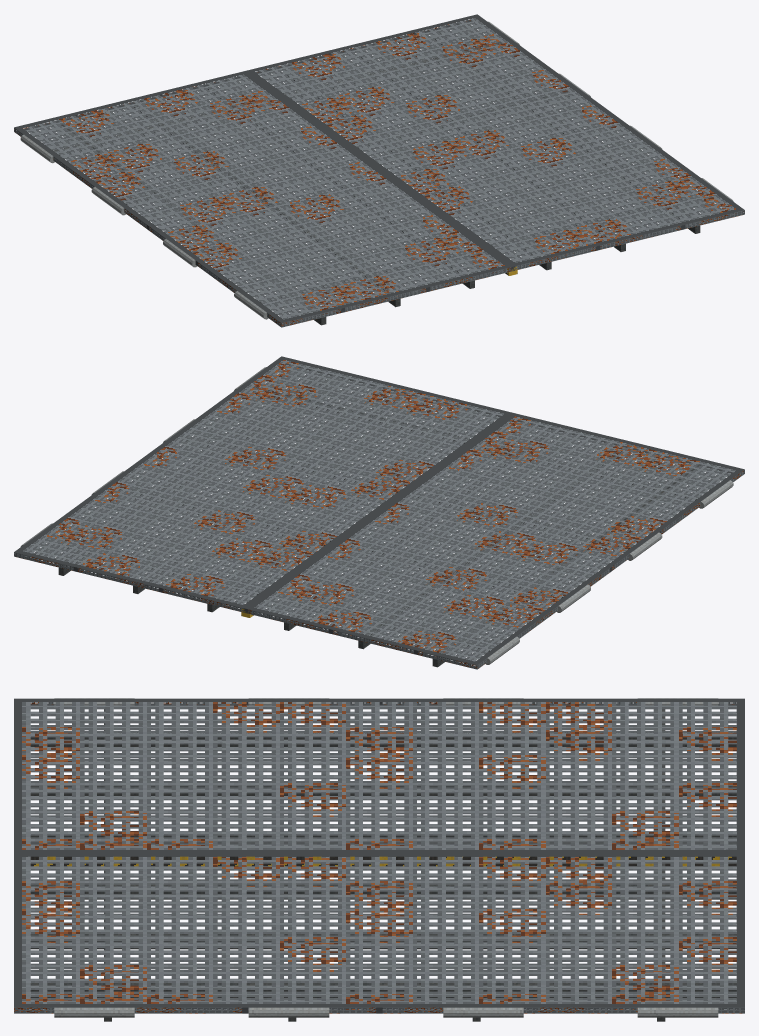
The model's file is shaft_hatch.glb.
The picture shows the model from 3 angles, top to bottom: view 1: azimuth 30°, elevation 25°; view 2: azimuth 150°, elevation 25°; view 3: azimuth 270°, elevation 25°; orthographic projection. The views are drawn at different scales.
Visible parts, largest first — view 1: leaf_l, leaf_r; view 2: leaf_l, leaf_r; view 3: leaf_r, leaf_l.
Boxes of the visible parts, <box> form: leaf_l: <box>14,71,513,327</box>; leaf_r: <box>246,14,744,274</box>; leaf_l: <box>245,413,744,669</box>; leaf_r: <box>14,356,512,616</box>; leaf_r: <box>14,853,744,1021</box>; leaf_l: <box>14,698,744,852</box>.
Size of the model in its own units: 11.05 by 0.32 by 10.9.
4 materials, 4 textured.
